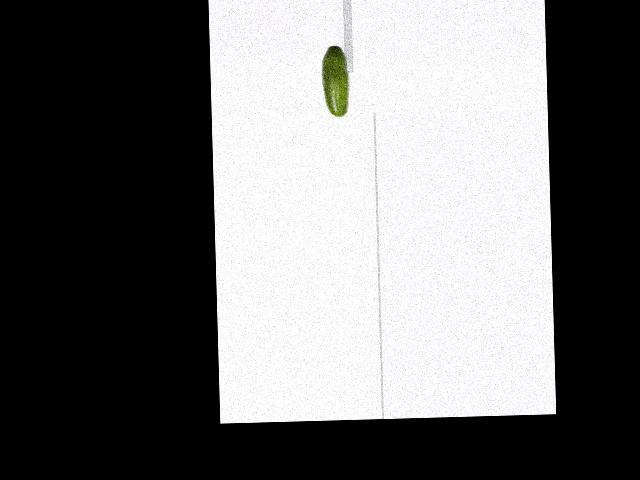cucumber: (320, 44, 350, 117)
